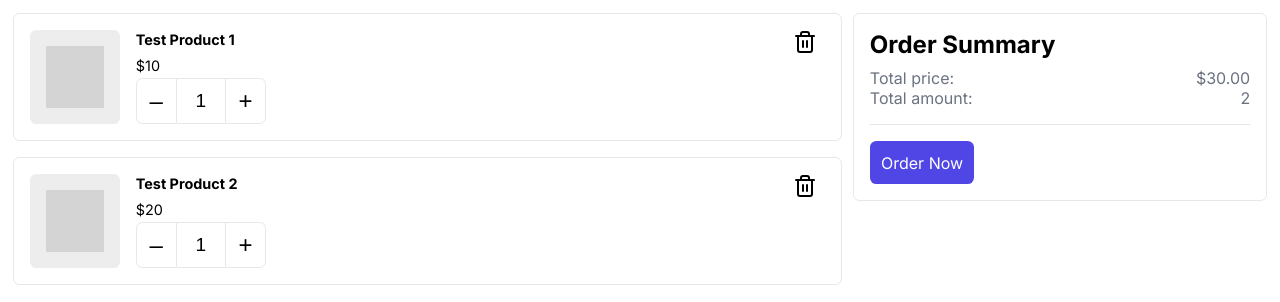
Scenario: Cart component › should calculate total price and total amount properly when change the amount
Step 1. Type "0" into the number field below "20" → (201,245), box [177,222,225,268]
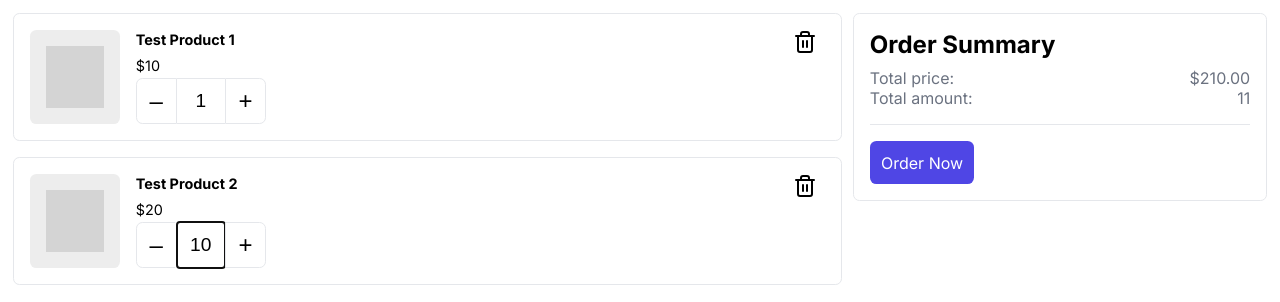
Expected: the number field below "20" holds "10", [177,222,225,268]
Expected: the text "Total price: $210.00" is shown, [870,68,1250,88]
Expected: the text "Total amount: 11" is shown, [870,88,1250,108]
